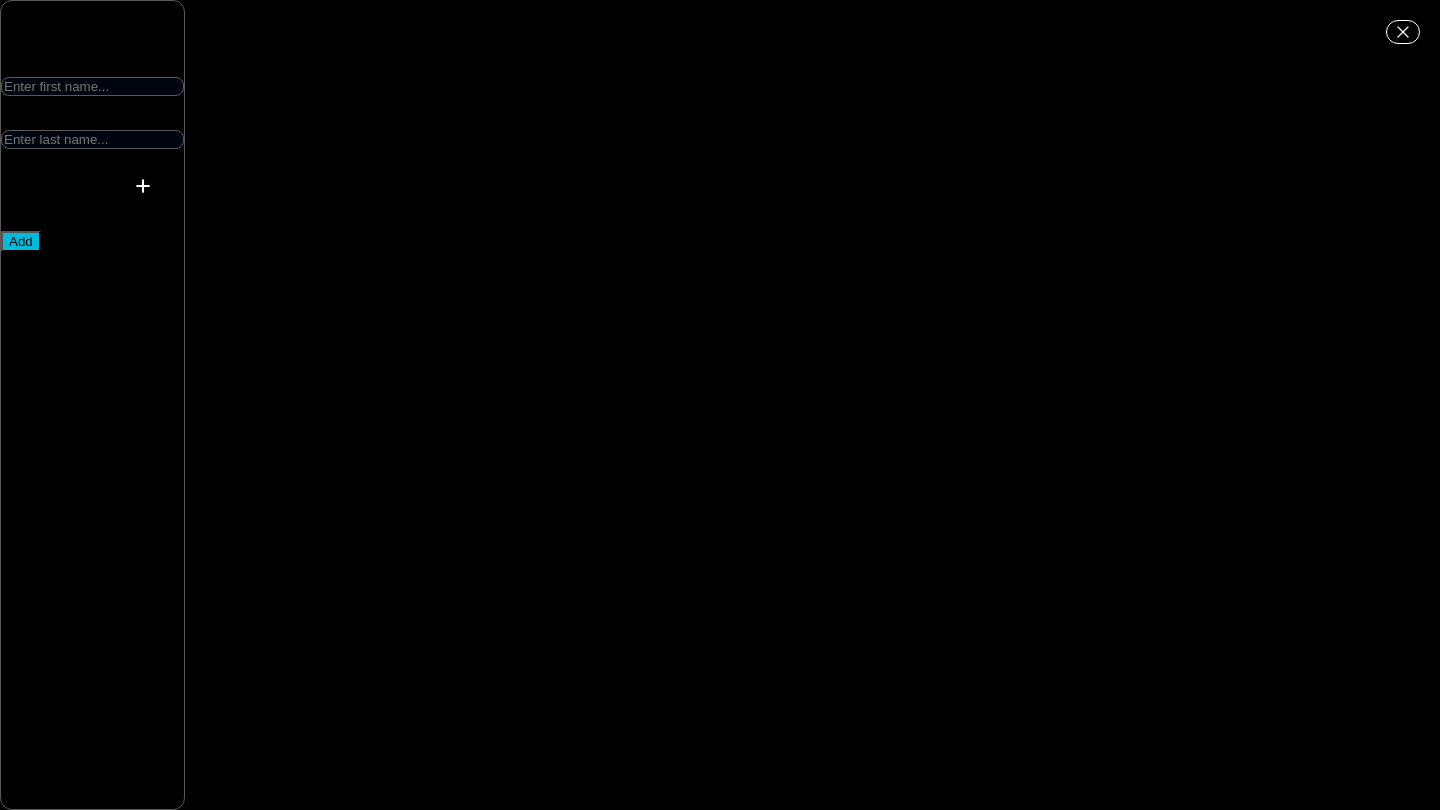
Test: Form and its rules › First and last name should not contain special characters
This screenshot has width=1440, height=810.
Type "yues_tadrik" into the field labelled "First Name" at (92,86), box [1,77,184,96]
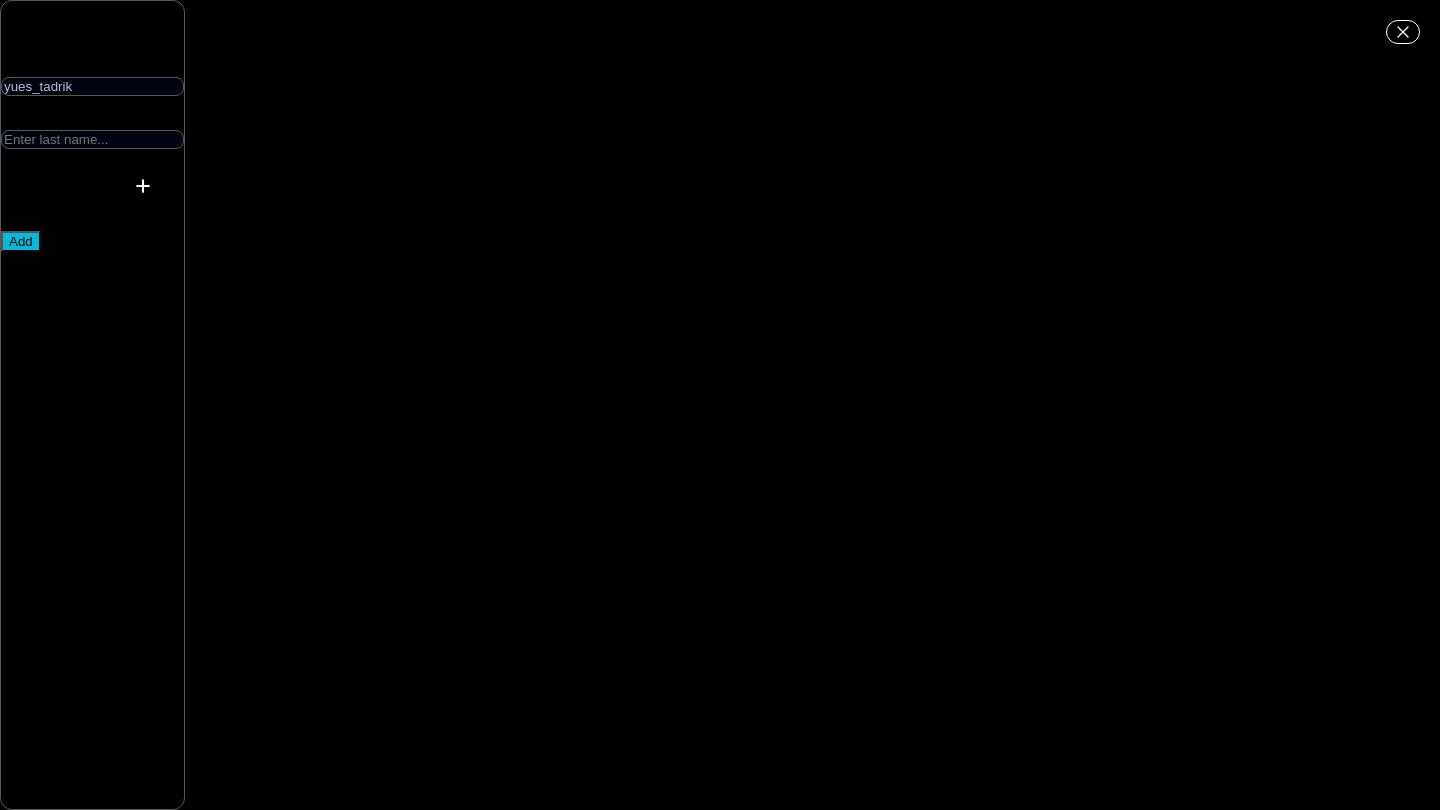
Type "hafiyan^" into the field labelled "Last Name" at (92,140), box [1,130,184,149]
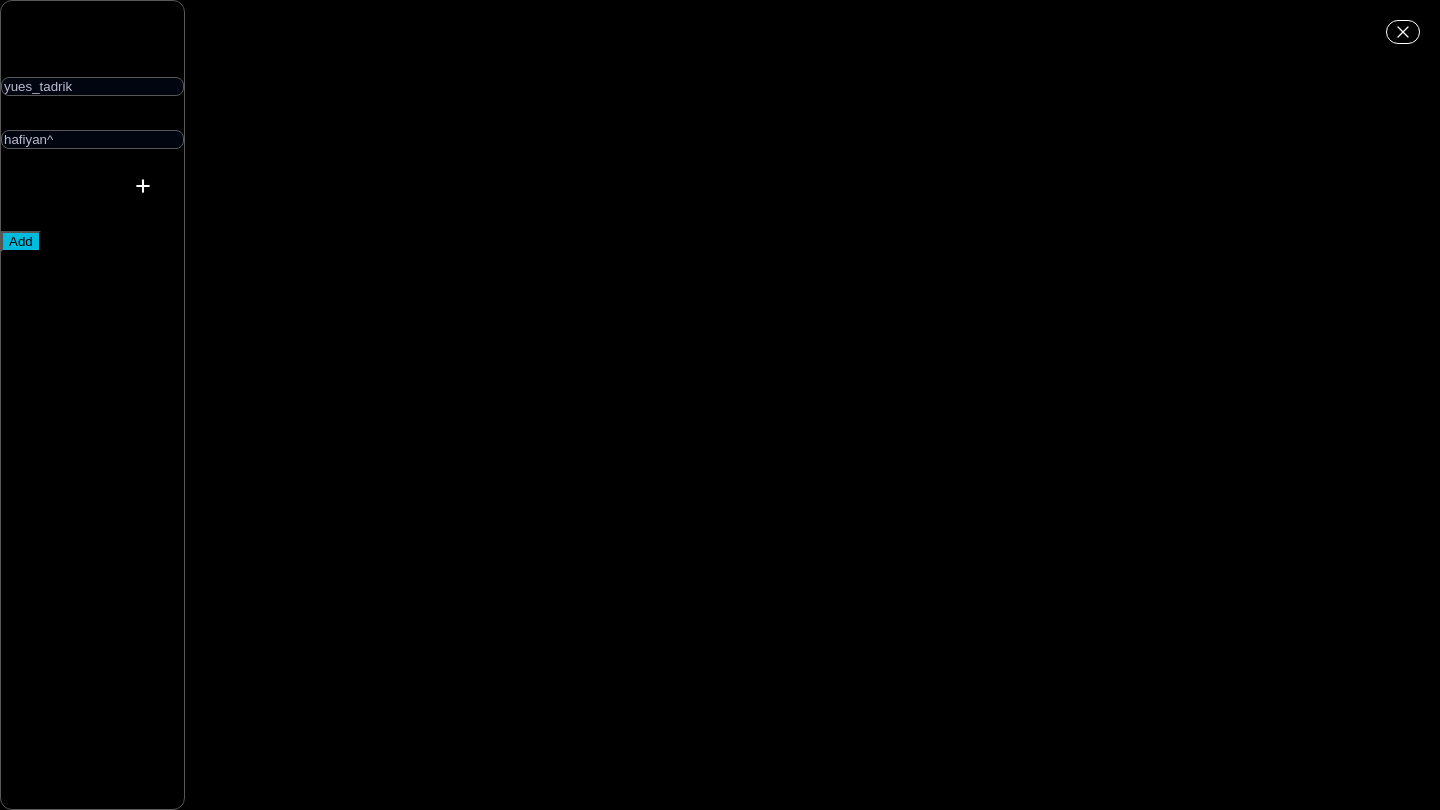
Click the button "Add" at (21,242), box [1,231,41,252]
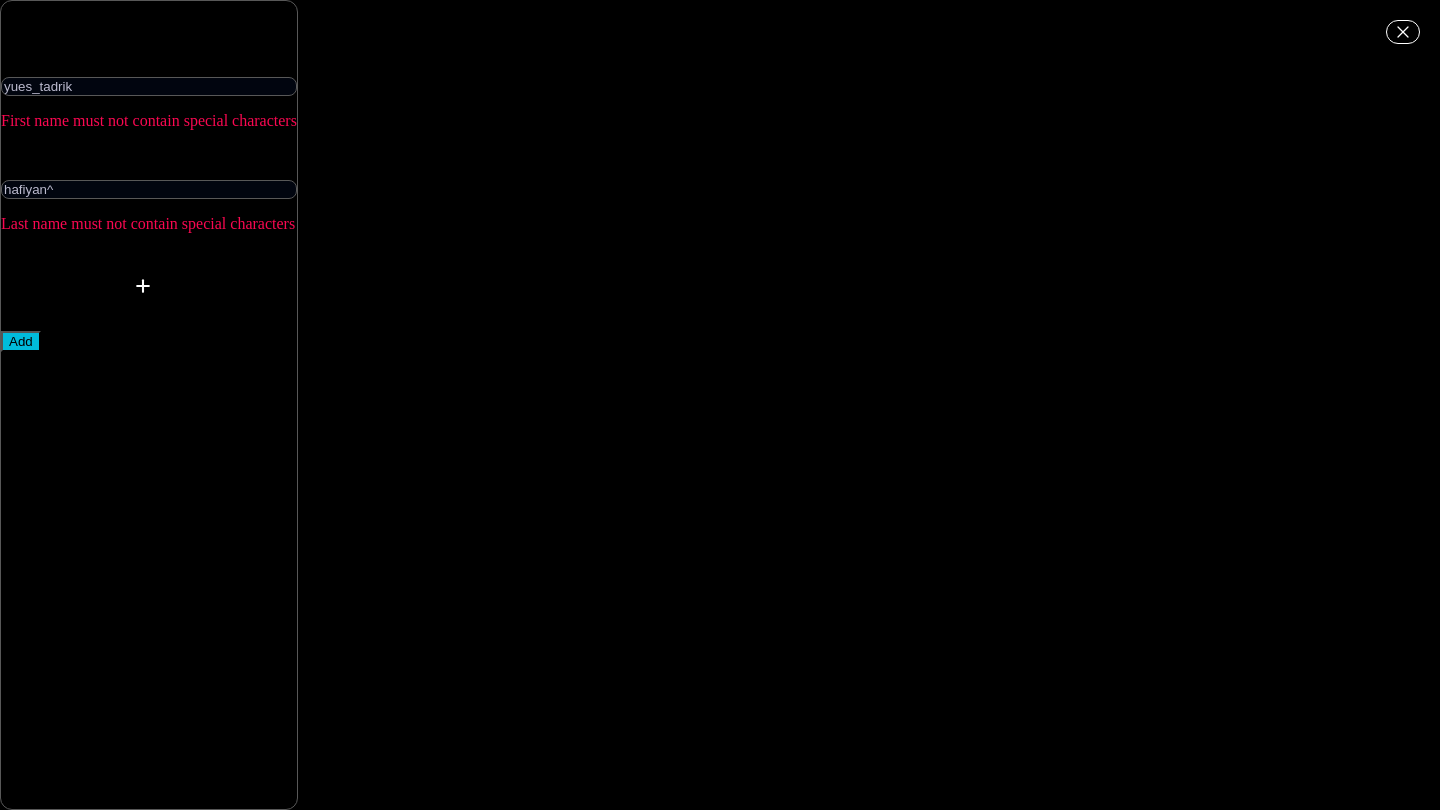
expect the text "First name must not contain special characters" is shown: met, box [1,112,297,130]
expect the text "Last name must not contain special characters" is shown: met, box [1,215,297,233]
